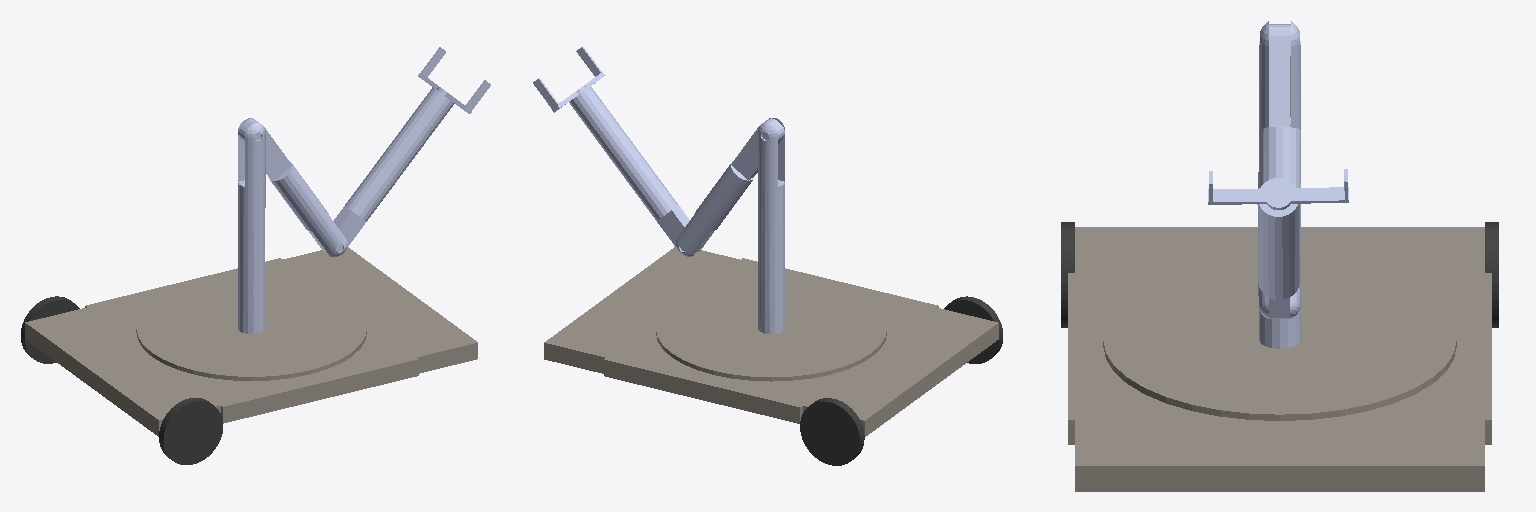
The robot description file, URDF, robot "car2_sld":
<?xml version="1.0" encoding="utf-8" ?>
<!-- This URDF was automatically created by SolidWorks to URDF Exporter! Originally created by [author] ([email redacted]) 
     Commit Version: 1.6.0-4-g7f85cfe  Build Version: 1.6.7995.38578
     For more information, please see http://wiki.ros.org/sw_urdf_exporter -->
<robot name="car2_sld">
    <link name="dummy" />
    <joint name="dummy_joint" type="fixed">
        <parent link="dummy" />
        <child link="base_link" />
    </joint>
    <link name="base_link">
        <inertial>
            <origin xyz="-2.06493424071167E-16 0.0023469386812806 3.58582616688385E-17" rpy="0 0 0" />
            <mass value="164.353963589239" />
            <inertia ixx="4.62640242563695" ixy="-5.95696794414352E-17" ixz="1.08386561915186E-16" iyy="12.6787643815464" iyz="-6.49913957287132E-17" izz="8.10980826342236" />
        </inertial>
        <visual>
            <origin xyz="0 0 0" rpy="0 0 0" />
            <geometry>
                <mesh filename="package://car2_sld/meshes/base_link.STL" />
            </geometry>
            <material name="">
                <color rgba="0.650980392156863 0.619607843137255 0.588235294117647 1" />
            </material>
        </visual>
        <collision>
            <origin xyz="0 0 0" rpy="0 0 0" />
            <geometry>
                <mesh filename="package://car2_sld/meshes/base_link.STL" />
            </geometry>
        </collision>
    </link>
    <link name="wlf_link">
        <inertial>
            <origin xyz="0 0 -0.01" rpy="0 0 0" />
            <mass value="0.409695097954645" />
            <inertia ixx="0.000589790234763875" ixy="3.94485665153874E-36" ixz="0" iyy="0.000589790234763875" iyz="-4.25822828585374E-37" izz="0.00115226746299744" />
        </inertial>
        <visual>
            <origin xyz="0 0 0" rpy="0 0 0" />
            <geometry>
                <mesh filename="package://car2_sld/meshes/wlf_link.STL" />
            </geometry>
            <material name="">
                <color rgba="0.298039215686275 0.298039215686275 0.298039215686275 1" />
            </material>
        </visual>
        <collision>
            <origin xyz="0 0 0" rpy="0 0 0" />
            <geometry>
                <mesh filename="package://car2_sld/meshes/wlf_link.STL" />
            </geometry>
        </collision>
    </link>
    <joint name="wlf_joint" type="continuous">
        <origin xyz="0.325 0.29 -0.02" rpy="1.5708 0 0" />
        <parent link="base_link" />
        <child link="wlf_link" />
        <axis xyz="0 0 1" />
    </joint>
    <link name="wlb_link">
        <inertial>
            <origin xyz="5.55111512312578E-17 -3.46944695195361E-18 -0.01" rpy="0 0 0" />
            <mass value="0.409695097954645" />
            <inertia ixx="0.000589790234763875" ixy="3.94485665153874E-36" ixz="0" iyy="0.000589790234763875" iyz="-4.25822828585374E-37" izz="0.00115226746299744" />
        </inertial>
        <visual>
            <origin xyz="0 0 0" rpy="0 0 0" />
            <geometry>
                <mesh filename="package://car2_sld/meshes/wlb_link.STL" />
            </geometry>
            <material name="">
                <color rgba="0.298039215686275 0.298039215686275 0.298039215686275 1" />
            </material>
        </visual>
        <collision>
            <origin xyz="0 0 0" rpy="0 0 0" />
            <geometry>
                <mesh filename="package://car2_sld/meshes/wlb_link.STL" />
            </geometry>
        </collision>
    </link>
    <joint name="wlb_joint" type="continuous">
        <origin xyz="-0.325 0.29 -0.02" rpy="1.5707963267949 0 0" />
        <parent link="base_link" />
        <child link="wlb_link" />
        <axis xyz="0 0 1" />
    </joint>
    <link name="wrf_link">
        <inertial>
            <origin xyz="0 0 0.01" rpy="0 0 0" />
            <mass value="0.409695097954645" />
            <inertia ixx="0.000589790234763875" ixy="0" ixz="0" iyy="0.000589790234763875" iyz="-5.93792032008049E-37" izz="0.00115226746299744" />
        </inertial>
        <visual>
            <origin xyz="0 0 0" rpy="0 0 0" />
            <geometry>
                <mesh filename="package://car2_sld/meshes/wrf_link.STL" />
            </geometry>
            <material name="">
                <color rgba="0.298039215686275 0.298039215686275 0.298039215686275 1" />
            </material>
        </visual>
        <collision>
            <origin xyz="0 0 0" rpy="0 0 0" />
            <geometry>
                <mesh filename="package://car2_sld/meshes/wrf_link.STL" />
            </geometry>
        </collision>
    </link>
    <joint name="wrf_joint" type="continuous">
        <origin xyz="0.325 -0.29 -0.02" rpy="1.5708 0 0" />
        <parent link="base_link" />
        <child link="wrf_link" />
        <axis xyz="0 0 1" />
    </joint>
    <link name="wrb_link">
        <inertial>
            <origin xyz="5.55111512312578E-17 -3.46944695195361E-18 0.01" rpy="0 0 0" />
            <mass value="0.409695097954645" />
            <inertia ixx="0.000589790234763875" ixy="3.94485665153874E-36" ixz="0" iyy="0.000589790234763875" iyz="-4.25822828585374E-37" izz="0.00115226746299744" />
        </inertial>
        <visual>
            <origin xyz="0 0 0" rpy="0 0 0" />
            <geometry>
                <mesh filename="package://car2_sld/meshes/wrb_link.STL" />
            </geometry>
            <material name="">
                <color rgba="0.298039215686275 0.298039215686275 0.298039215686275 1" />
            </material>
        </visual>
        <collision>
            <origin xyz="0 0 0" rpy="0 0 0" />
            <geometry>
                <mesh filename="package://car2_sld/meshes/wrb_link.STL" />
            </geometry>
        </collision>
    </link>
    <joint name="wrb_joint" type="continuous">
        <origin xyz="-0.325 -0.29 -0.02" rpy="1.5707963267949 0 0" />
        <parent link="base_link" />
        <child link="wrb_link" />
        <axis xyz="0 0 1" />
    </joint>
    <link name="arm1_link">
        <inertial>
            <origin xyz="-2.626980324594E-09 0.222682177900455 -7.63349871720785E-09" rpy="0 0 0" />
            <mass value="1.27500464040644" />
            <inertia ixx="0.0280786277337189" ixy="4.9682425263076E-10" ixz="-7.0713548738614E-11" iyy="0.000601075274789828" iyz="1.91675335098201E-09" izz="0.0280237082431091" />
        </inertial>
        <visual>
            <origin xyz="0 0 0" rpy="0 0 0" />
            <geometry>
                <mesh filename="package://car2_sld/meshes/arm1_link.STL" />
            </geometry>
            <material name="">
                <color rgba="0.796078431372549 0.823529411764706 0.937254901960784 1" />
            </material>
        </visual>
        <collision>
            <origin xyz="0 0 0" rpy="0 0 0" />
            <geometry>
                <mesh filename="package://car2_sld/meshes/arm1_link.STL" />
            </geometry>
        </collision>
    </link>
    <joint name="arm1_joint" type="continuous">
        <origin xyz="0 0 0.03" rpy="1.5707963267949 0 -0.0039754446169783" />
        <parent link="base_link" />
        <child link="arm1_link" />
        <axis xyz="0 1 0" />
    </joint>
    <link name="arm2_link">
        <inertial>
            <origin xyz="2.31823538698883E-08 0.183362257511322 6.06454495335248E-09" rpy="0 0 0" />
            <mass value="0.930153151725561" />
            <inertia ixx="0.00985132876361779" ixy="-3.56435321521848E-09" ixz="1.99674204928501E-10" iyy="0.000394257488232508" iyz="-1.19413355630031E-09" izz="0.00985451975556886" />
        </inertial>
        <visual>
            <origin xyz="0 0 0" rpy="0 0 0" />
            <geometry>
                <mesh filename="package://car2_sld/meshes/arm2_link.STL" />
            </geometry>
            <material name="">
                <color rgba="0.796078431372549 0.823529411764706 0.937254901960784 1" />
            </material>
        </visual>
        <collision>
            <origin xyz="0 0 0" rpy="0 0 0" />
            <geometry>
                <mesh filename="package://car2_sld/meshes/arm2_link.STL" />
            </geometry>
        </collision>
    </link>
    <joint name="arm2_joint" type="continuous">
        <origin xyz="0 0.469999999999997 0" rpy="-3.14159265358979 0 0.576591541595324" />
        <parent link="arm1_link" />
        <child link="arm2_link" />
        <axis xyz="0 0 1" />
    </joint>
    <link name="arm3_link">
        <inertial>
            <origin xyz="1.83880688453542E-16 0.208988752815505 9.39027501589695E-16" rpy="0 0 0" />
            <mass value="1.22106539786534" />
            <inertia ixx="0.0160392787269217" ixy="-1.10409516311388E-17" ixz="0" iyy="0.000521865417021989" iyz="-1.8655900663276E-19" izz="0.0160610185794677" />
        </inertial>
        <visual>
            <origin xyz="0 0 0" rpy="0 0 0" />
            <geometry>
                <mesh filename="package://car2_sld/meshes/arm3_link.STL" />
            </geometry>
            <material name="">
                <color rgba="0.796078431372549 0.823529411764706 0.937254901960784 1" />
            </material>
        </visual>
        <collision>
            <origin xyz="0 0 0" rpy="0 0 0" />
            <geometry>
                <mesh filename="package://car2_sld/meshes/arm3_link.STL" />
            </geometry>
        </collision>
    </link>
    <joint name="arm3_joint" type="continuous">
        <origin xyz="0 0.375000000000002 0" rpy="-3.14159265358979 0 1.33461891451581" />
        <parent link="arm2_link" />
        <child link="arm3_link" />
        <axis xyz="0 0 1" />
    </joint>
    <link name="hand_link">
        <inertial>
            <origin xyz="1.05818132034585E-16 -9.71445146547012E-17 0.0266893668156185" rpy="0 0 0" />
            <mass value="0.0516505006136003" />
            <inertia ixx="3.12636176175129E-06" ixy="1.05805664768393E-18" ixz="1.55197280888424E-19" iyy="0.00015412961839027" iyz="-1.62553398075858E-20" izz="0.000156395138475128" />
        </inertial>
        <visual>
            <origin xyz="0 0 0" rpy="0 0 0" />
            <geometry>
                <mesh filename="package://car2_sld/meshes/hand_link.STL" />
            </geometry>
            <material name="">
                <color rgba="0.796078431372549 0.823529411764706 0.937254901960784 1" />
            </material>
        </visual>
        <collision>
            <origin xyz="0 0 0" rpy="0 0 0" />
            <geometry>
                <mesh filename="package://car2_sld/meshes/hand_link.STL" />
            </geometry>
        </collision>
    </link>
    <joint name="hand_joint" type="continuous">
        <origin xyz="0 0.37831 0" rpy="1.5708 1.5536 3.1416" />
        <parent link="arm3_link" />
        <child link="hand_link" />
        <axis xyz="0 0 1" />
    </joint>
    <link name="finger1_link">
        <inertial>
            <origin xyz="0.0026233 9.7145E-17 0.035" rpy="0 0 0" />
            <mass value="0.00805" />
            <inertia ixx="3.5554E-06" ixy="-2.5808E-22" ixz="-8.5618E-21" iyy="3.3039E-06" iyz="-1.9604E-21" izz="2.851E-07" />
        </inertial>
        <visual>
            <origin xyz="0 0 0" rpy="0 0 0" />
            <geometry>
                <mesh filename="package://car2_sld/meshes/finger1_link.STL" />
            </geometry>
            <material name="">
                <color rgba="0.79608 0.82353 0.93725 1" />
            </material>
        </visual>
        <collision>
            <origin xyz="0 0 0" rpy="0 0 0" />
            <geometry>
                <mesh filename="package://car2_sld/meshes/finger1_link.STL" />
            </geometry>
        </collision>
    </link>
    <joint name="finger1_joint" type="prismatic">
        <origin xyz="-0.092909 0 0.031689" rpy="0 0 3.1416" />
        <parent link="hand_link" />
        <child link="finger1_link" />
        <axis xyz="1 0 0" />
        <limit lower="-0.092" upper="0" effort="0" velocity="0" />
    </joint>
    <link name="finger2_link">
        <inertial>
            <origin xyz="-0.0026233 -1.4572E-16 0.035" rpy="0 0 0" />
            <mass value="0.00805" />
            <inertia ixx="3.5554E-06" ixy="1.9654E-21" ixz="-1.3084E-20" iyy="3.3039E-06" iyz="2.4107E-20" izz="2.851E-07" />
        </inertial>
        <visual>
            <origin xyz="0 0 0" rpy="0 0 0" />
            <geometry>
                <mesh filename="package://car2_sld/meshes/finger2_link.STL" />
            </geometry>
            <material name="">
                <color rgba="0.79608 0.82353 0.93725 1" />
            </material>
        </visual>
        <collision>
            <origin xyz="0 0 0" rpy="0 0 0" />
            <geometry>
                <mesh filename="package://car2_sld/meshes/finger2_link.STL" />
            </geometry>
        </collision>
    </link>
    <joint name="finger2_joint" type="prismatic">
        <origin xyz="0.093125 0 0.031689" rpy="0 0 3.1416" />
        <parent link="hand_link" />
        <child link="finger2_link" />
        <axis xyz="1 0 0" />
        <limit lower="0" upper="0.092" effort="0" velocity="0" />
    </joint>
    <link name="grasping_frame" />
    <joint name="grasping_frame_joint" type="fixed">
        <parent link="hand_link" />
        <child link="grasping_frame" />
        <origin rpy="0 0 0" xyz="0.000108 0 0.031689" />
    </joint>
    <transmission name="trans_wlf_joint">
        <type>transmission_interface/SimpleTransmission</type>
        <joint name="wlf_joint">
            <hardwareInterface>hardware_interface/EffortJointInterface</hardwareInterface>
        </joint>
        <actuator name="wlf_joint_motor">
            <hardwareInterface>hardware_interface/EffortJointInterface</hardwareInterface>
            <mechanicalReduction>1</mechanicalReduction>
        </actuator>
    </transmission>
    <transmission name="trans_wlb_joint">
        <type>transmission_interface/SimpleTransmission</type>
        <joint name="wlb_joint">
            <hardwareInterface>hardware_interface/EffortJointInterface</hardwareInterface>
        </joint>
        <actuator name="wlb_joint_motor">
            <hardwareInterface>hardware_interface/EffortJointInterface</hardwareInterface>
            <mechanicalReduction>1</mechanicalReduction>
        </actuator>
    </transmission>
    <transmission name="trans_wrf_joint">
        <type>transmission_interface/SimpleTransmission</type>
        <joint name="wrf_joint">
            <hardwareInterface>hardware_interface/EffortJointInterface</hardwareInterface>
        </joint>
        <actuator name="wrf_joint_motor">
            <hardwareInterface>hardware_interface/EffortJointInterface</hardwareInterface>
            <mechanicalReduction>1</mechanicalReduction>
        </actuator>
    </transmission>
    <transmission name="trans_wrb_joint">
        <type>transmission_interface/SimpleTransmission</type>
        <joint name="wrb_joint">
            <hardwareInterface>hardware_interface/EffortJointInterface</hardwareInterface>
        </joint>
        <actuator name="wrb_joint_motor">
            <hardwareInterface>hardware_interface/EffortJointInterface</hardwareInterface>
            <mechanicalReduction>1</mechanicalReduction>
        </actuator>
    </transmission>
    <transmission name="trans_arm1_joint">
        <type>transmission_interface/SimpleTransmission</type>
        <joint name="arm1_joint">
            <hardwareInterface>hardware_interface/EffortJointInterface</hardwareInterface>
        </joint>
        <actuator name="arm1_joint_motor">
            <hardwareInterface>hardware_interface/EffortJointInterface</hardwareInterface>
            <mechanicalReduction>1</mechanicalReduction>
        </actuator>
    </transmission>
    <transmission name="trans_arm2_joint">
        <type>transmission_interface/SimpleTransmission</type>
        <joint name="arm2_joint">
            <hardwareInterface>hardware_interface/EffortJointInterface</hardwareInterface>
        </joint>
        <actuator name="arm2_joint_motor">
            <hardwareInterface>hardware_interface/EffortJointInterface</hardwareInterface>
            <mechanicalReduction>1</mechanicalReduction>
        </actuator>
    </transmission>
    <transmission name="trans_arm3_joint">
        <type>transmission_interface/SimpleTransmission</type>
        <joint name="arm3_joint">
            <hardwareInterface>hardware_interface/EffortJointInterface</hardwareInterface>
        </joint>
        <actuator name="arm3_joint_motor">
            <hardwareInterface>hardware_interface/EffortJointInterface</hardwareInterface>
            <mechanicalReduction>1</mechanicalReduction>
        </actuator>
    </transmission>
    <transmission name="trans_hand_joint">
        <type>transmission_interface/SimpleTransmission</type>
        <joint name="hand_joint">
            <hardwareInterface>hardware_interface/EffortJointInterface</hardwareInterface>
        </joint>
        <actuator name="hand_joint_motor">
            <hardwareInterface>hardware_interface/EffortJointInterface</hardwareInterface>
            <mechanicalReduction>1</mechanicalReduction>
        </actuator>
    </transmission>
    <transmission name="trans_finger1_joint">
        <type>transmission_interface/SimpleTransmission</type>
        <joint name="finger1_joint">
            <hardwareInterface>hardware_interface/EffortJointInterface</hardwareInterface>
        </joint>
        <actuator name="finger1_joint_motor">
            <hardwareInterface>hardware_interface/EffortJointInterface</hardwareInterface>
            <mechanicalReduction>1</mechanicalReduction>
        </actuator>
    </transmission>
    <transmission name="trans_finger2_joint">
        <type>transmission_interface/SimpleTransmission</type>
        <joint name="finger2_joint">
            <hardwareInterface>hardware_interface/EffortJointInterface</hardwareInterface>
        </joint>
        <actuator name="finger2_joint_motor">
            <hardwareInterface>hardware_interface/EffortJointInterface</hardwareInterface>
            <mechanicalReduction>1</mechanicalReduction>
        </actuator>
    </transmission>
    <gazebo>
        <plugin name="gazebo_ros_control">
            <robotNamespace>/</robotNamespace>
        </plugin>
    </gazebo>
</robot>

--- Facts derived from the render (not from the file) ---
Views: 3 orthographic renders of the robot side by side, from view 1: azimuth 30°, elevation 25°; view 2: azimuth 150°, elevation 25°; view 3: azimuth 270°, elevation 25°.
Robot: car2_sld — 13 links, 12 joints (8 continuous, 2 prismatic, 2 fixed); root link dummy; default pose: all joints at 0.
Visible links, largest first — view 1: base_link, arm1_link, arm3_link, arm2_link, wrb_link, wlb_link; view 2: base_link, arm1_link, arm3_link, arm2_link, wlb_link, wrb_link; view 3: base_link, arm2_link, arm3_link, arm1_link, hand_link, wlb_link, wrb_link.
Boxes of the visible links, x1=… form: base_link: x1=25, y1=247, x2=477, y2=436; arm1_link: x1=238, y1=118, x2=265, y2=333; arm3_link: x1=334, y1=87, x2=454, y2=251; arm2_link: x1=238, y1=119, x2=347, y2=257; wrb_link: x1=159, y1=398, x2=222, y2=464; wlb_link: x1=21, y1=296, x2=79, y2=363; base_link: x1=544, y1=247, x2=998, y2=436; arm1_link: x1=758, y1=118, x2=784, y2=333; arm3_link: x1=569, y1=86, x2=702, y2=251; arm2_link: x1=675, y1=118, x2=784, y2=256; wlb_link: x1=800, y1=398, x2=864, y2=465; wrb_link: x1=944, y1=296, x2=1002, y2=363; base_link: x1=1068, y1=227, x2=1491, y2=491; arm2_link: x1=1258, y1=24, x2=1300, y2=318; arm3_link: x1=1257, y1=178, x2=1299, y2=318; arm1_link: x1=1259, y1=21, x2=1300, y2=348; hand_link: x1=1208, y1=182, x2=1348, y2=209; wlb_link: x1=1485, y1=222, x2=1498, y2=327; wrb_link: x1=1061, y1=222, x2=1074, y2=327.
Size in the robot's own frame: 0.9425 by 0.62 by 0.6372 metres.
9 mesh visuals loaded from 11 distinct referenced files (9 binary STL); not drawn: 2 (reference not matched to a file when rendering).